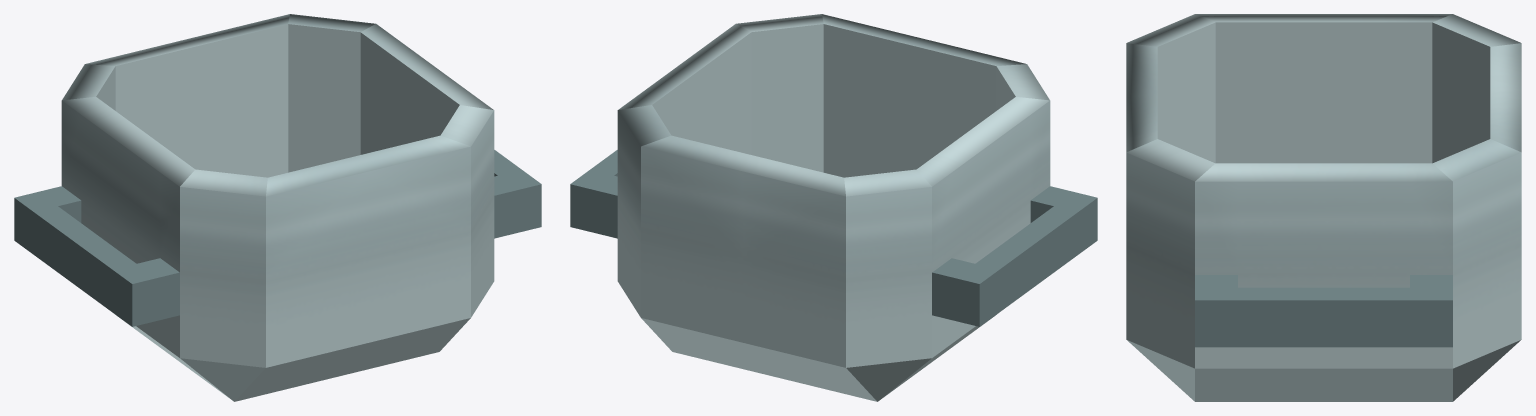
The model's file is pot 1.fbx.
3 renders of one model, left to right at view 1: azimuth 30°, elevation 25°; view 2: azimuth 150°, elevation 25°; view 3: azimuth 270°, elevation 25°, orthographic. The views are drawn at different scales.
Parts seen in each view (by area): view 1: pCube4; view 2: pCube4; view 3: pCube4.
Boxes of the visible parts, x1=… form: pCube4: x1=14, y1=14, x2=541, y2=401; pCube4: x1=570, y1=14, x2=1097, y2=401; pCube4: x1=1126, y1=14, x2=1521, y2=401.
Size of the model in its own units: 0.5816 by 0.3161 by 0.4454.
Materials: 1 (1 with a texture image).
